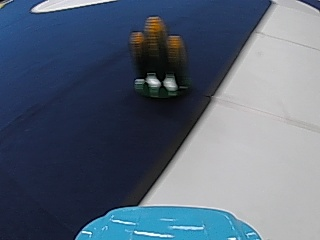corn: (126, 12, 190, 103)
